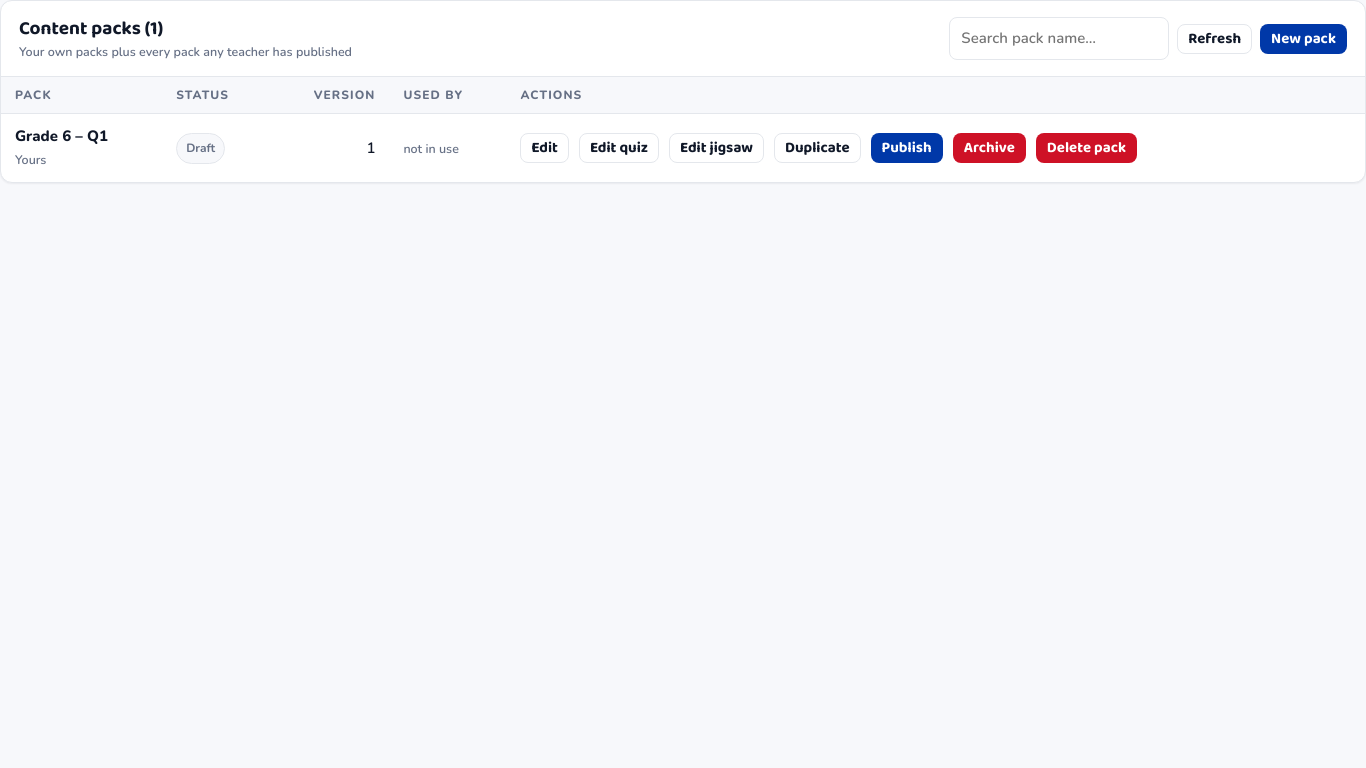
Test: pack edit dialog › refuses an empty name
Expected: the text "Grade 6 – Q1" is shown, [15, 126, 108, 146]
Click the button "Edit" at (545, 148), box [520, 133, 569, 163]
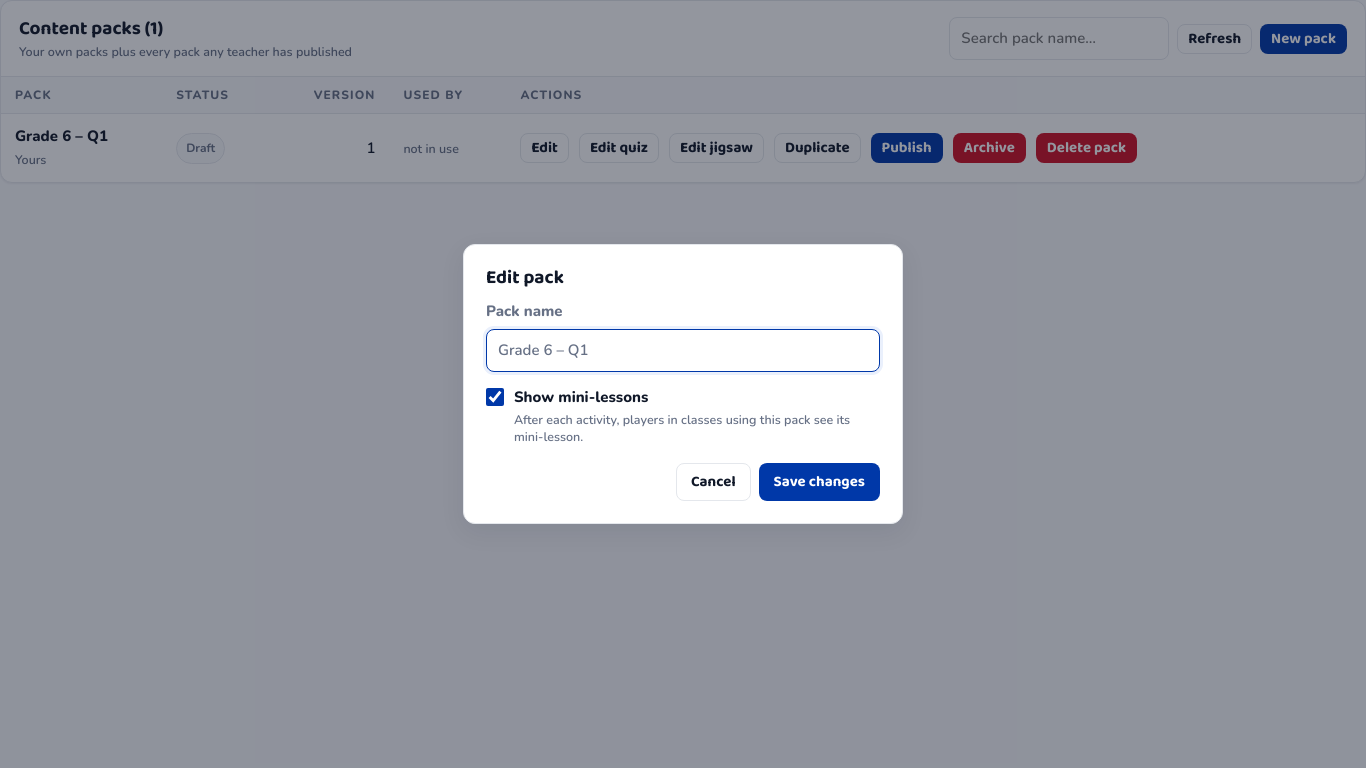
Clear the field labelled "Pack name" at (683, 350), box [486, 329, 880, 372]
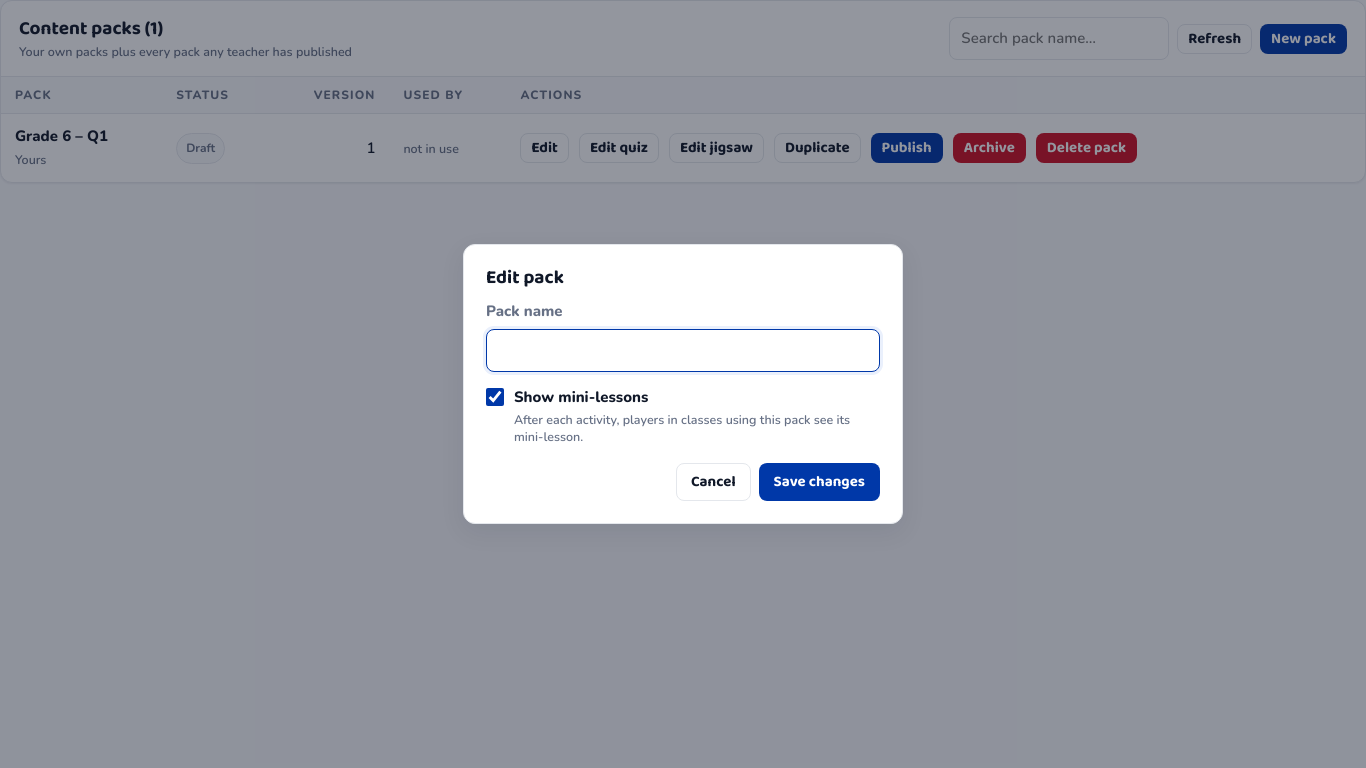
Click the button "Save changes" at (819, 482), box [758, 463, 880, 501]
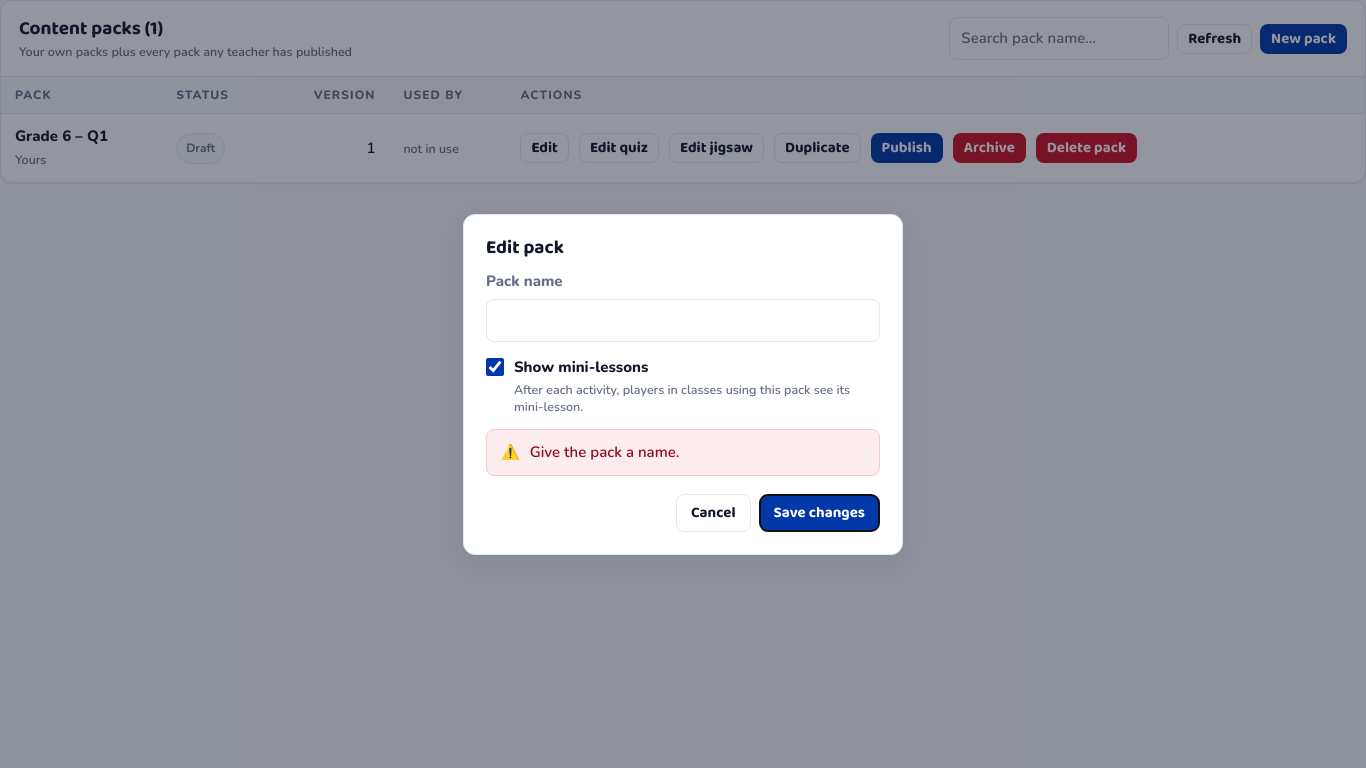
Result: the text "Give the pack a name." is shown at [530, 440, 679, 464]
